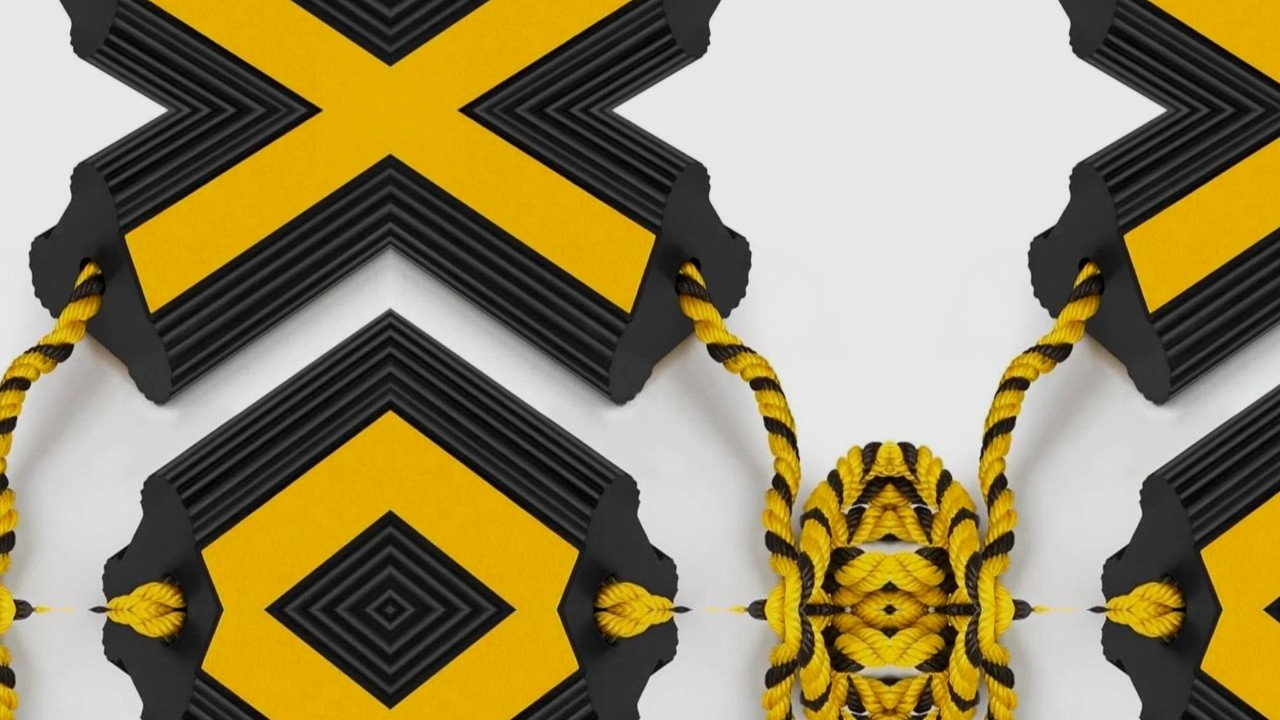chock: (8, 110, 390, 424), (390, 110, 772, 424), (79, 253, 390, 610), (390, 253, 701, 610), (1008, 110, 1280, 424), (1079, 253, 1280, 610), (8, 0, 390, 110), (390, 0, 772, 110), (79, 610, 390, 720), (390, 610, 701, 720), (1008, 0, 1280, 110), (1079, 610, 1280, 720)
